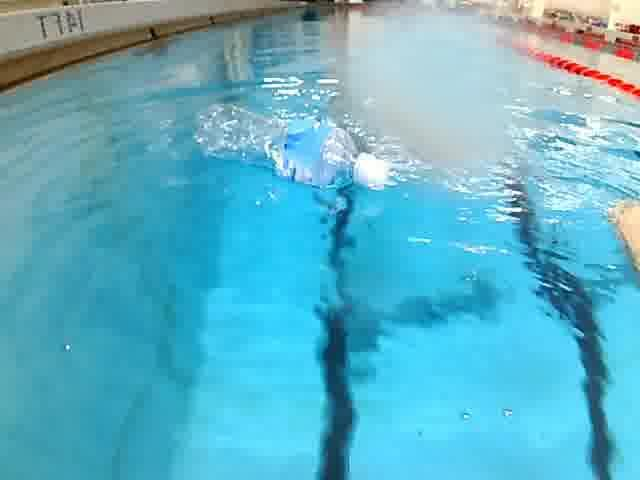Bottle: (192, 98, 392, 197)
